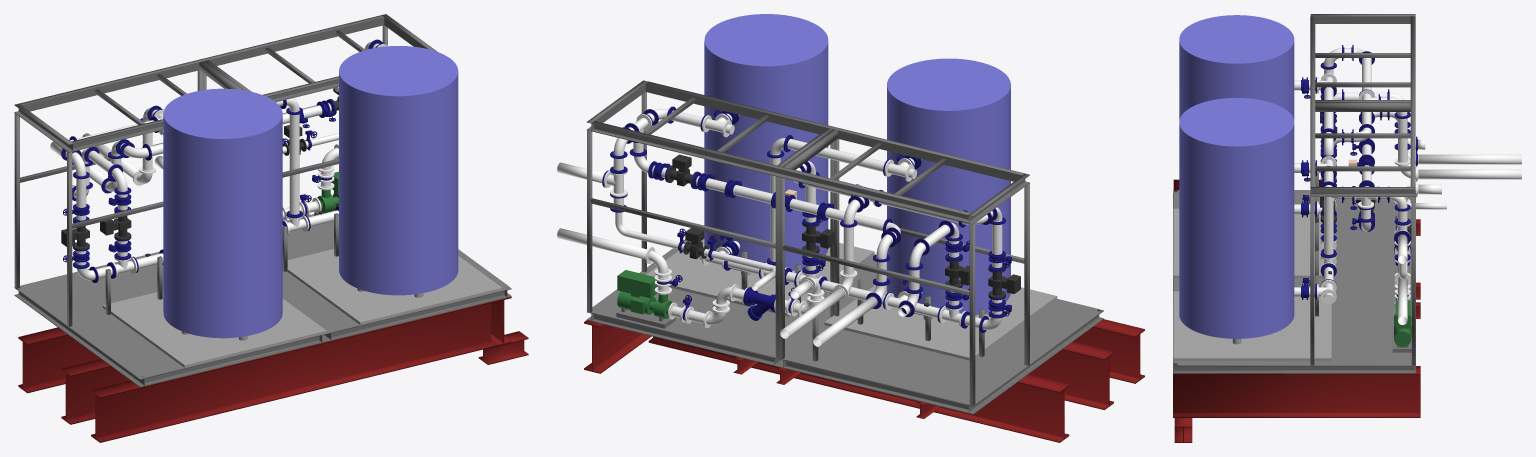
File: Skid_Type_1.glb
3 renders of one model, left to right at view 1: azimuth 30°, elevation 25°; view 2: azimuth 150°, elevation 25°; view 3: azimuth 270°, elevation 25°, orthographic. The views are drawn at different scales.
Visible parts, largest first — view 1: Untitled.2841, Untitled.2840, Cube.009, Untitled.2955, Untitled.3038, Cube.007, Cube.008, Untitled.3040, Untitled.3042, Untitled.3041, Untitled.3048, Untitled.2874 (+8 smaller); view 2: Untitled.2841, Untitled.2840, Untitled.2955, Cube.007, Untitled.3038, Untitled.3040, Cube.008, Cube.009, Cube.010, Untitled.2843, Untitled.3043, Untitled.3044 (+23 smaller); view 3: Untitled.2840, Untitled.2841, Untitled.2955, Cube.010, Untitled.3045, Cylinder.032, Cylinder.033, Untitled.3039, Untitled.3040, Untitled.3038, Untitled.3037, Cube.015 (+11 smaller).
Part boxes in pixels (box(x1,y1,x2,y2)): Untitled.2841: box(102, 88, 326, 367); Untitled.2840: box(287, 46, 502, 324); Cube.009: box(91, 300, 495, 442); Untitled.2955: box(17, 214, 509, 377); Untitled.3038: box(19, 15, 384, 111); Cube.007: box(18, 327, 100, 393); Cube.008: box(61, 359, 130, 424); Untitled.3040: box(71, 76, 338, 151); Untitled.3042: box(144, 335, 321, 385); Untitled.3041: box(331, 290, 506, 340); Untitled.3048: box(14, 287, 144, 387); Untitled.2874: box(289, 114, 299, 214); Untitled.2841: box(824, 58, 1057, 360); Untitled.2840: box(646, 14, 874, 316); Untitled.2955: box(591, 239, 1100, 404); Cube.007: box(648, 336, 1069, 442); Untitled.3038: box(591, 121, 970, 223); Untitled.3040: box(645, 81, 1024, 181); Cube.008: box(1028, 341, 1113, 409); Cube.009: box(1073, 319, 1144, 383); Cube.010: box(584, 320, 651, 373); Untitled.2843: box(617, 270, 672, 318); Untitled.3043: box(783, 360, 968, 413); Untitled.3044: box(590, 313, 773, 365); Untitled.2840: box(1173, 98, 1331, 360); Untitled.2841: box(1173, 15, 1323, 278); Untitled.2955: box(1173, 190, 1411, 365); Cube.010: box(1173, 366, 1420, 417); Untitled.3045: box(1173, 363, 1415, 373); Cylinder.032: box(1418, 169, 1521, 179); Cylinder.033: box(1418, 154, 1521, 164); Untitled.3039: box(1310, 187, 1415, 196); Untitled.3040: box(1310, 16, 1315, 194); Untitled.3038: box(1410, 16, 1415, 186); Untitled.3037: box(1310, 14, 1415, 23); Cube.015: box(1315, 102, 1410, 111).
Bounding box in the file's own units: 8.6 × 5.26 × 6.05.
